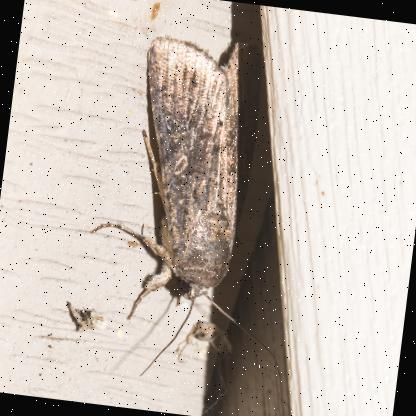Fall Armyworm Moth: (68, 20, 326, 398)
